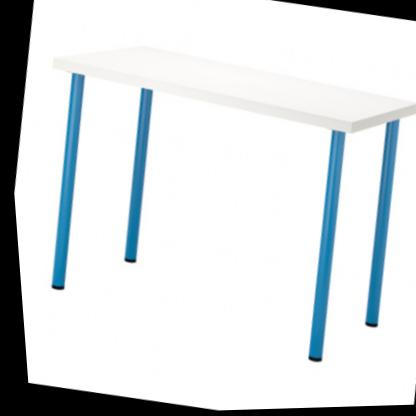Table: (2, 16, 416, 387)
